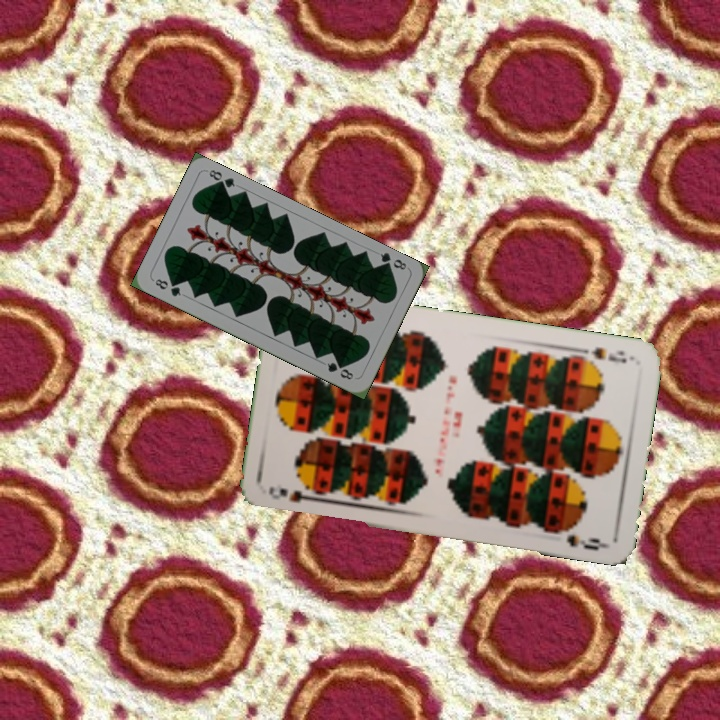G8: (376, 248, 409, 273), (151, 275, 184, 299)
S9: (578, 343, 637, 366), (275, 484, 323, 505)
